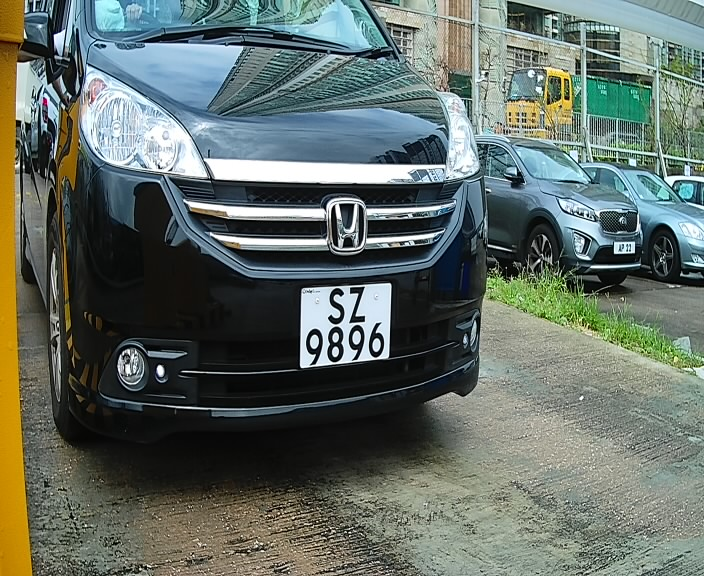Car: (23, 2, 523, 471)
License Plate: (295, 279, 402, 376)
